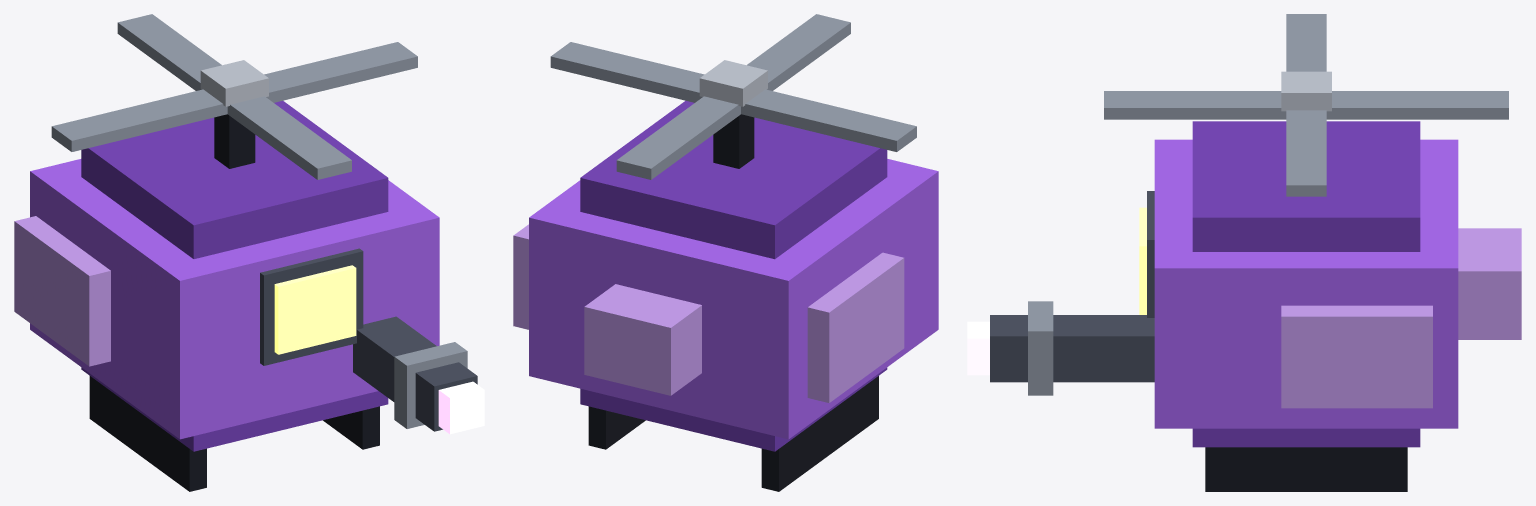
File: enemy-shooter.glb
3 views of the same model, side by side, from view 1: azimuth 30°, elevation 25°; view 2: azimuth 150°, elevation 25°; view 3: azimuth 270°, elevation 25° (orthographic).
Visible parts, largest first — view 1: body, body_top, body_fin_r, rotor_blade_a, rotor_blade_b, eye_lens, barrel_main, skid_r, eye_rim, body_bottom, barrel_ring, rotor_cap (+3 smaller); view 2: body, body_top, body_tail, body_fin_r, rotor_blade_a, rotor_blade_b, skid_r, body_bottom, rotor_cap, rotor_mast, body_fin_l, skid_l; view 3: body, body_top, body_fin_l, rotor_blade_b, barrel_main, skid_l, body_tail, rotor_blade_a, body_bottom, barrel_ring, rotor_cap, glow_muzzle (+2 smaller).
Boxes of the visible parts, x1,y1,x2,y2 form: body: [30, 159, 439, 439]; body_top: [81, 101, 388, 258]; body_fin_r: [14, 216, 110, 366]; rotor_blade_a: [51, 42, 417, 151]; rotor_blade_b: [117, 14, 351, 179]; eye_lens: [274, 265, 356, 354]; barrel_main: [353, 316, 477, 431]; skid_r: [89, 376, 206, 491]; eye_rim: [260, 248, 363, 365]; body_bottom: [81, 367, 388, 451]; barrel_ring: [394, 342, 467, 428]; rotor_cap: [200, 60, 268, 106]; body: [529, 159, 938, 439]; body_top: [580, 100, 887, 259]; body_tail: [584, 284, 701, 395]; body_fin_r: [807, 252, 904, 402]; rotor_blade_a: [550, 42, 916, 151]; rotor_blade_b: [616, 14, 850, 179]; skid_r: [761, 376, 878, 491]; body_bottom: [580, 367, 887, 451]; rotor_cap: [699, 60, 767, 106]; rotor_mast: [713, 114, 754, 168]; body_fin_l: [513, 224, 528, 329]; skid_l: [588, 406, 645, 449]; body: [1154, 139, 1458, 428]; body_top: [1192, 121, 1420, 251]; body_fin_l: [1281, 305, 1432, 408]; rotor_blade_b: [1104, 91, 1508, 119]; barrel_main: [990, 315, 1154, 382]; skid_l: [1205, 447, 1407, 491]; body_tail: [1458, 228, 1521, 339]; rotor_blade_a: [1286, 14, 1326, 196]; body_bottom: [1192, 428, 1420, 447]; barrel_ring: [1028, 301, 1053, 395]; rotor_cap: [1281, 71, 1331, 111]; glow_muzzle: [967, 321, 989, 375].
Size of the model in its own units: 1.6 by 1.58 by 2.19.
